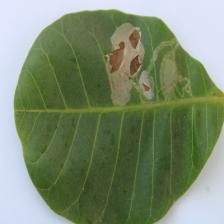leaf miner: (107, 23, 155, 104), (157, 41, 192, 101)
